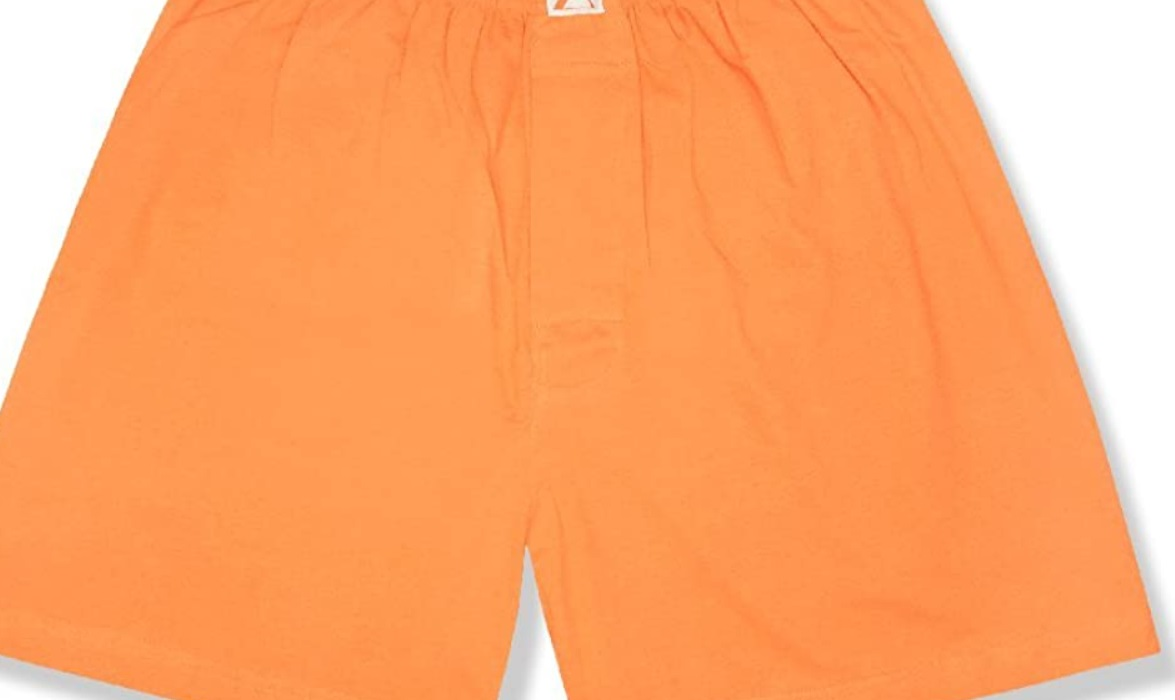Orange: (14, 12, 1162, 693)
